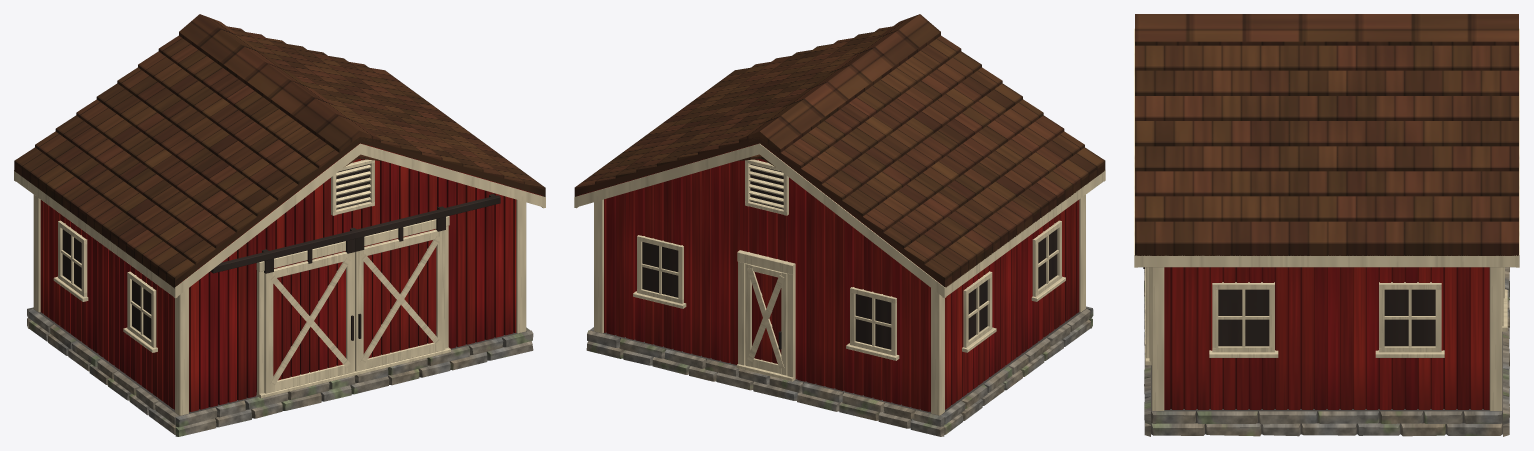
Rendered from barn.obj.
3 views of the same model, side by side, from view 1: azimuth 30°, elevation 25°; view 2: azimuth 150°, elevation 25°; view 3: azimuth 270°, elevation 25° (orthographic). The views are drawn at different scales.
Bounding box in the file's own units: 8 × 5.5 × 6.02.
Materials: 1 (1 with a texture image).
